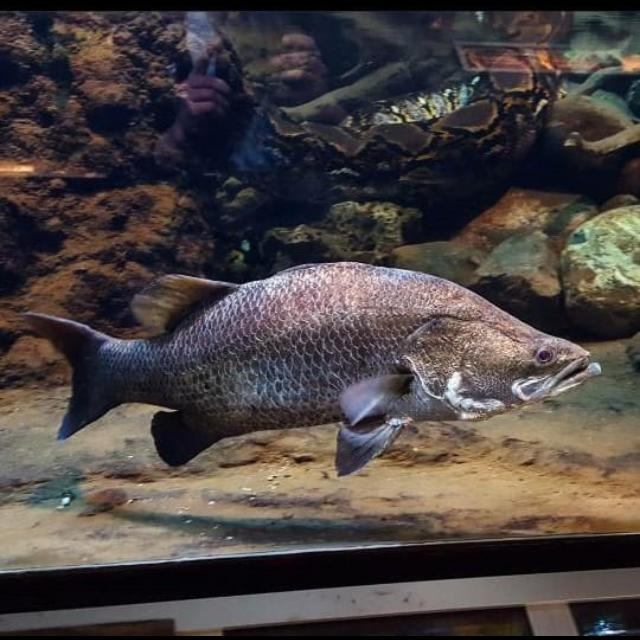Seabass: (23, 261, 601, 477)
